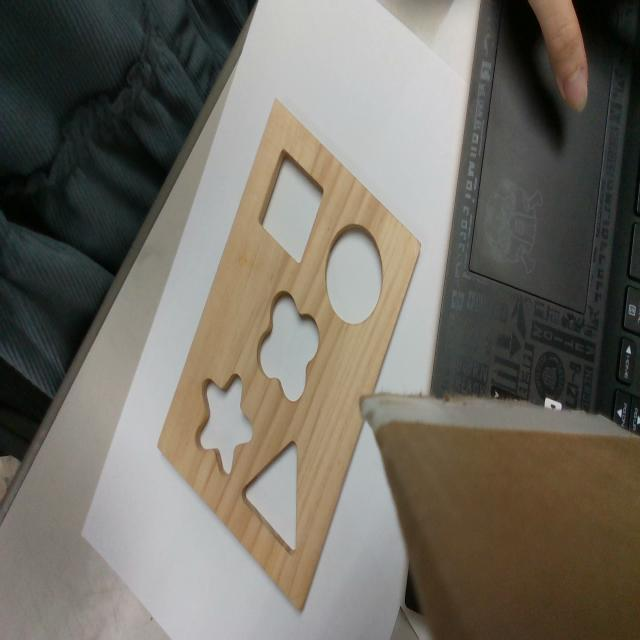circle: (327, 225, 382, 327)
flower: (257, 294, 318, 401)
square: (260, 149, 325, 266)
star: (195, 372, 253, 479)
triangle: (243, 437, 298, 552)
